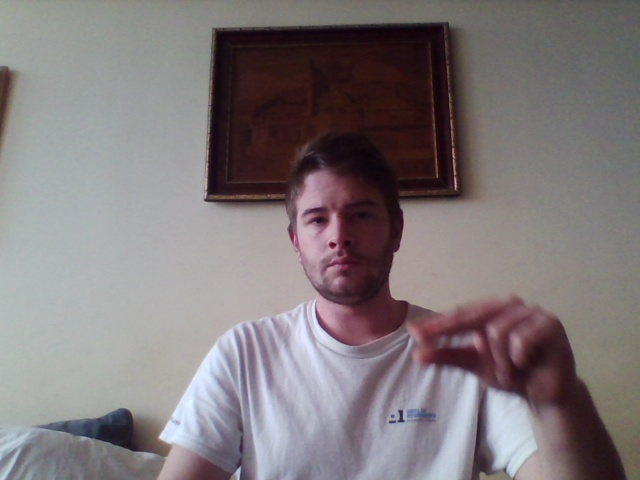ne: (405, 289, 580, 405)
